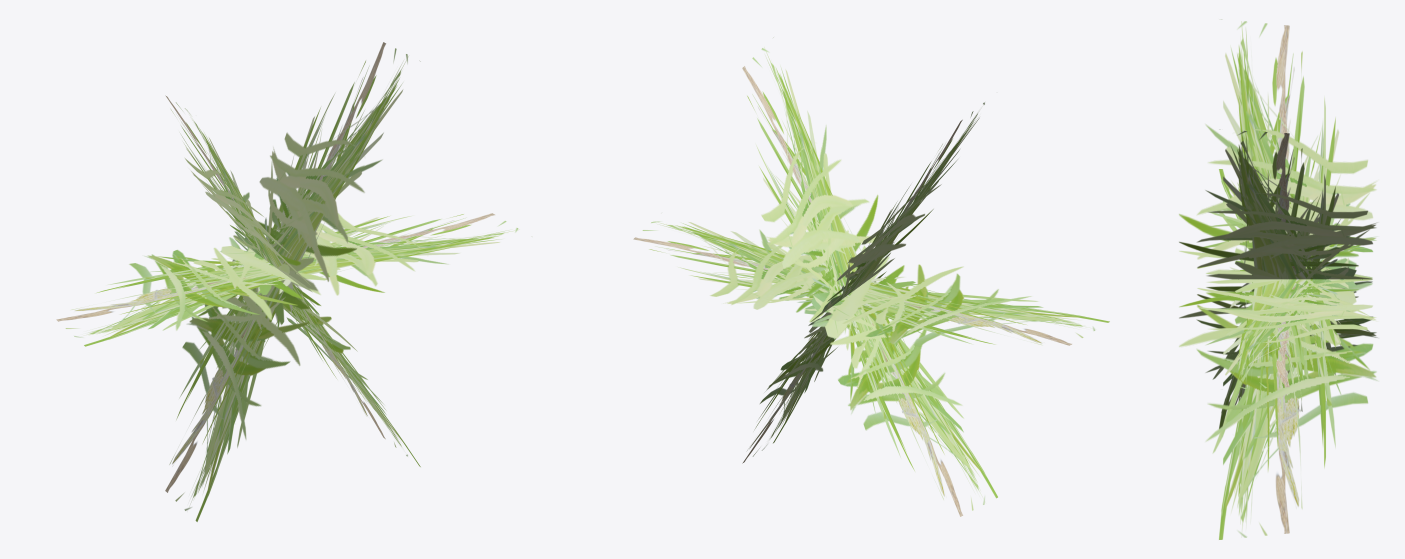
Rendered from GrassCard_Lawn_B.glb.
3 renders of one model, left to right at view 1: azimuth 30°, elevation 25°; view 2: azimuth 150°, elevation 25°; view 3: azimuth 270°, elevation 25°, orthographic.
Parts seen in each view (by area): view 1: GrassCard_Lawn_B; view 2: GrassCard_Lawn_B; view 3: GrassCard_Lawn_B.
Part boxes in pixels (x1,y1,x2,y2): GrassCard_Lawn_B: (56, 42, 518, 521); GrassCard_Lawn_B: (633, 48, 1109, 516); GrassCard_Lawn_B: (1179, 19, 1377, 539).
Size of the model in its own units: 0.12 by 0.1039 by 0.05.
1 material, 1 textured.
